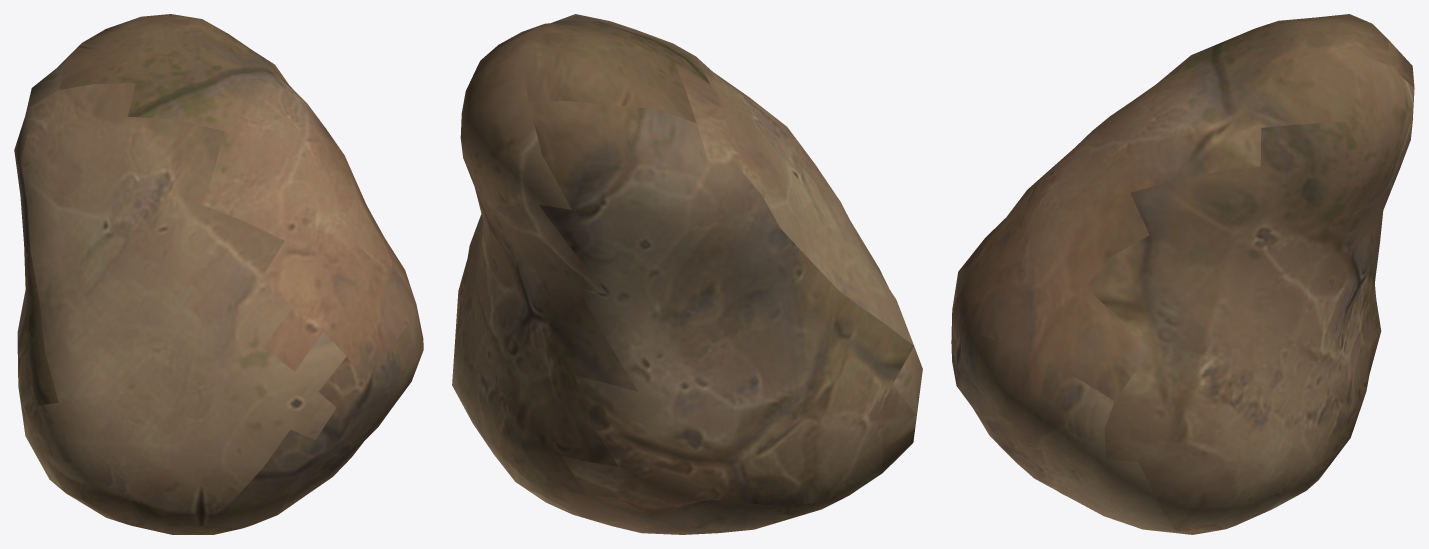
The model's file is Rock-2-tex.fbx.
The picture shows the model from 3 angles, left to right: view 1: azimuth 30°, elevation 25°; view 2: azimuth 150°, elevation 25°; view 3: azimuth 270°, elevation 25°; orthographic projection. The views are drawn at different scales.
Parts seen in each view (by area): view 1: rock.001; view 2: rock.001; view 3: rock.001.
Part boxes in pixels (x1,y1,x2,y2): rock.001: (14,14,423,534); rock.001: (452,14,922,534); rock.001: (951,14,1414,534).
Size of the model in its own units: 92.74 by 108 by 93.27.
